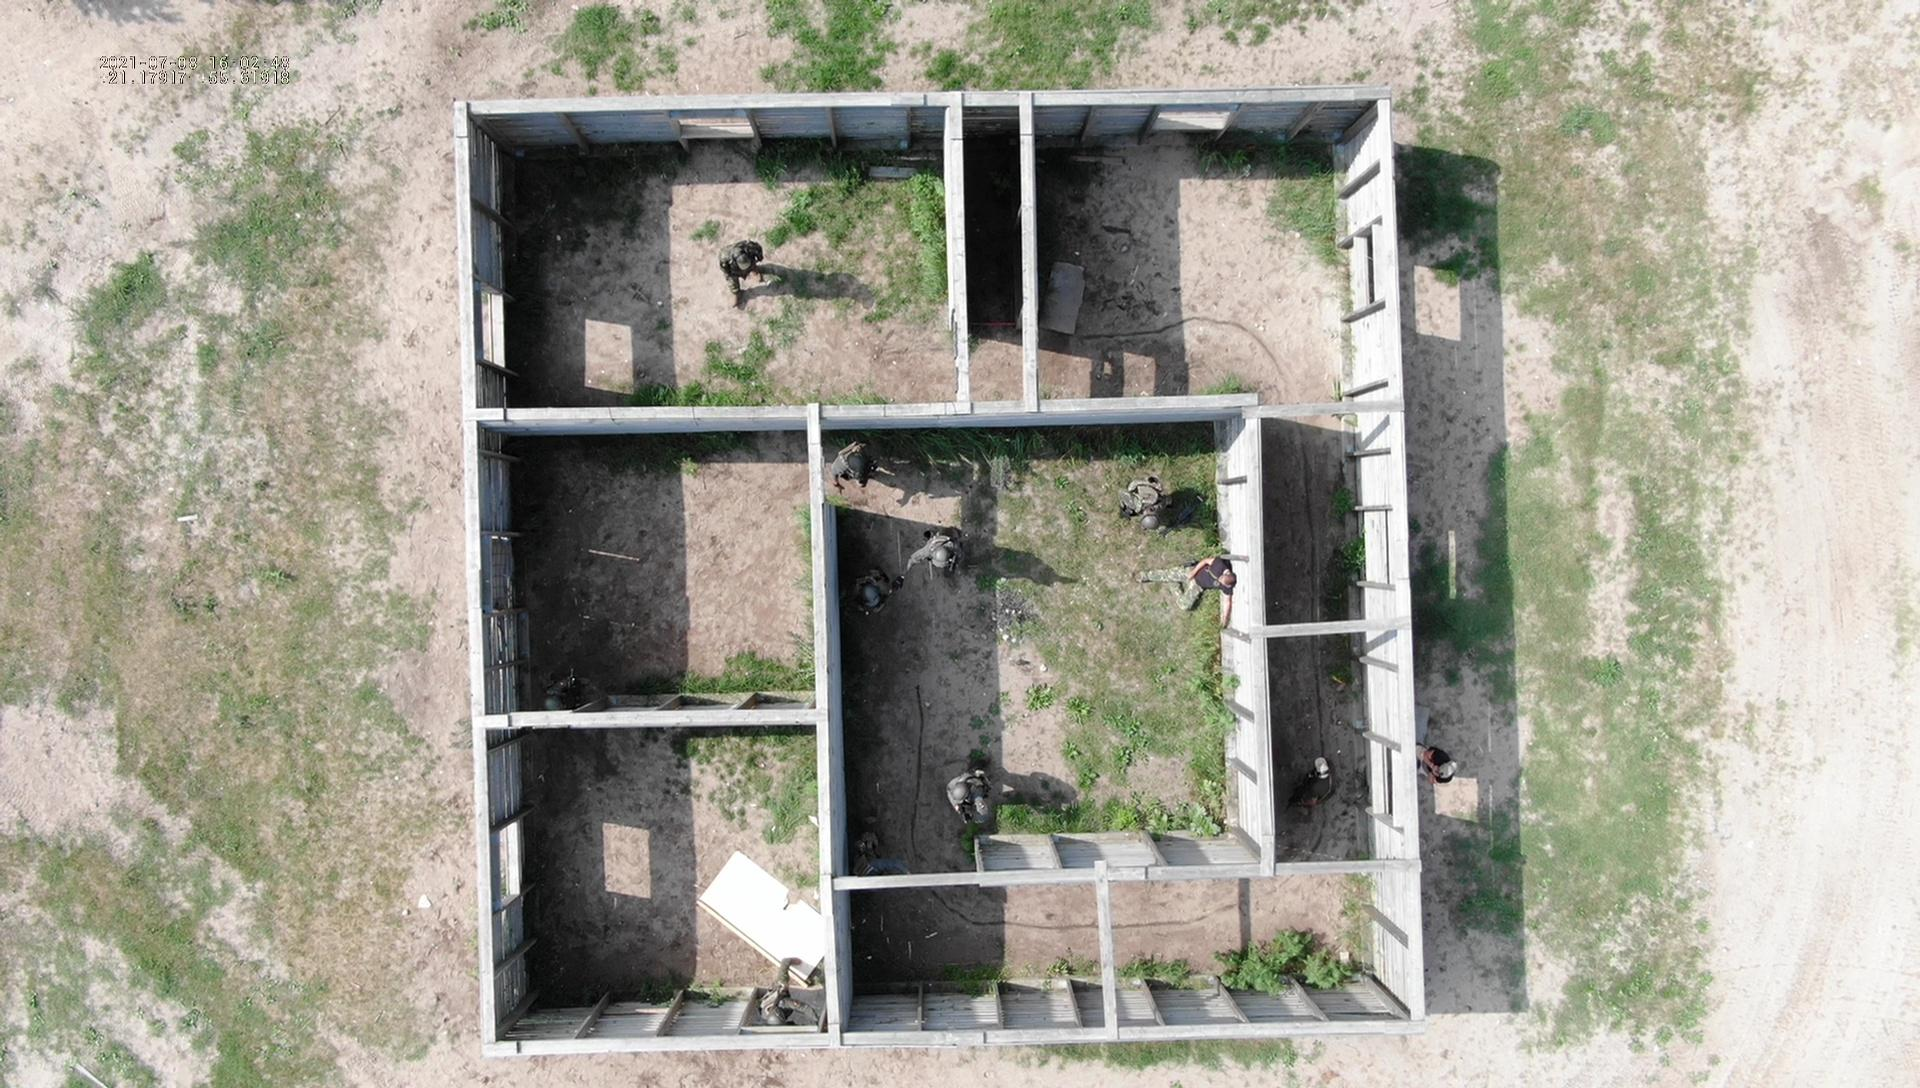Soldier: (1139, 549, 1251, 633), (947, 753, 1017, 859), (702, 222, 782, 301), (1114, 468, 1201, 539), (744, 950, 814, 1030), (841, 799, 903, 882), (907, 518, 967, 600), (1280, 742, 1338, 826), (840, 557, 893, 624), (833, 437, 872, 488)
